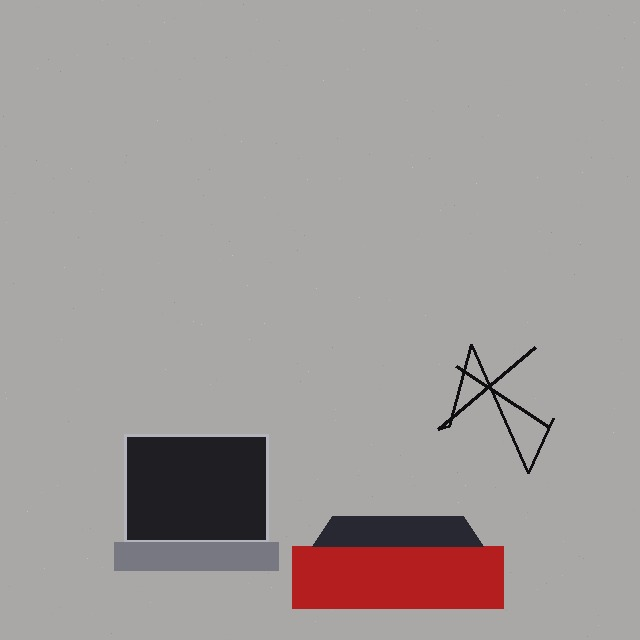crocodile_crack: (422, 332, 563, 477)
laptop: (124, 434, 268, 570)
vehicle: (292, 516, 503, 608)
